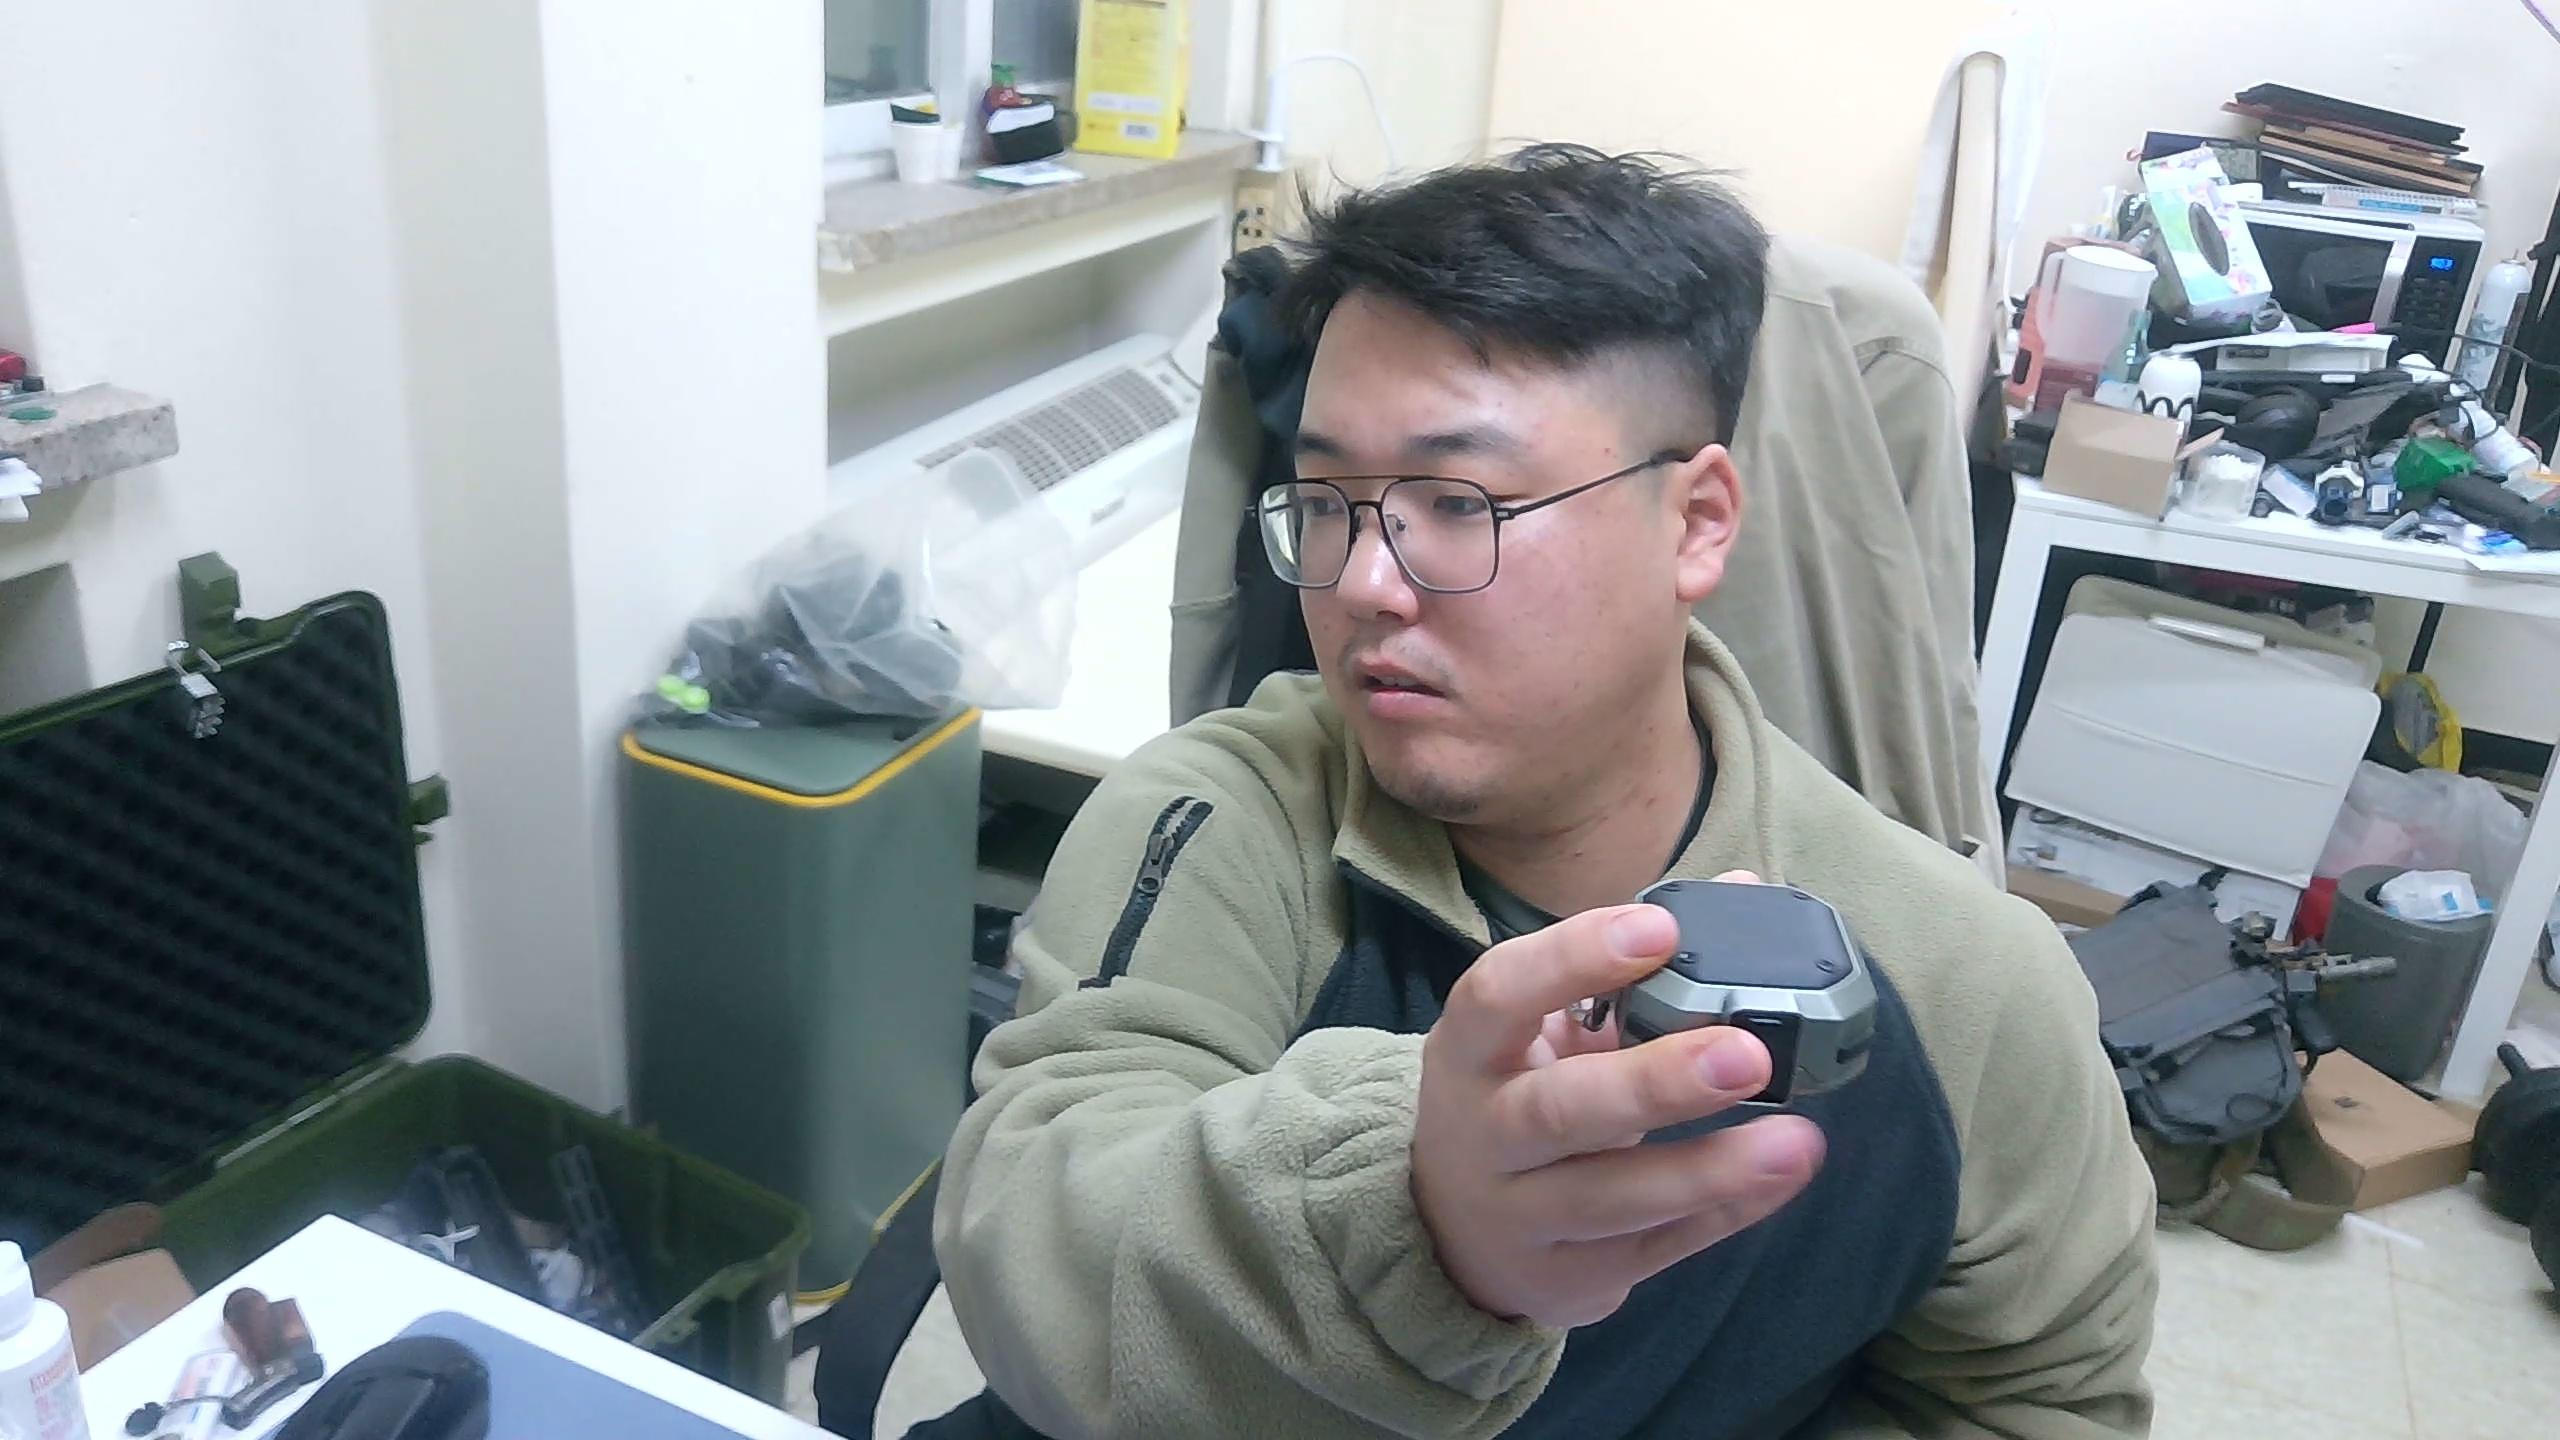blue_pliers: (1614, 874, 1885, 1109)
